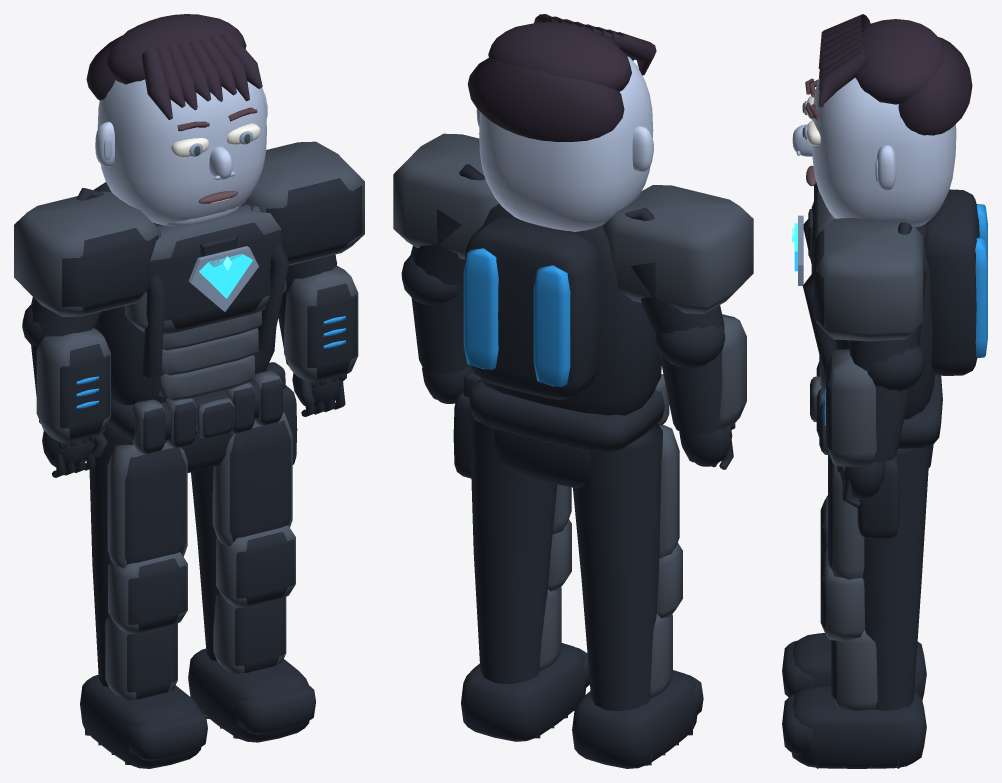
File: DAMIX_CHOMPJAK.glb
The picture shows the model from 3 angles, left to right: view 1: azimuth 30°, elevation 25°; view 2: azimuth 150°, elevation 25°; view 3: azimuth 270°, elevation 25°; orthographic projection. The views are drawn at different scales.
Visible parts, largest first — view 1: Face, Shoulder leftArm rim, Thigh leftLeg armour, Thigh rightLeg armour, Breastplate armour, Shoulder leftArm armour, Shoulder rightArm armour, Boot leftLeg, Boot rightLeg, Shoulder rightArm rim, Undersuit torso, Hair crown (+50 smaller); view 2: Trouser leg leftLeg, Trouser leg rightLeg, Face, Shoulder leftArm rim, Backpack, Undersuit torso, Long hair back, Shoulder rightArm rim, Boot leftLeg, Boot rightLeg, Belt, Hair crown (+19 smaller); view 3: Face, Shoulder rightArm rim, Trouser leg rightLeg, Backpack, Boot rightLeg, Hair crown, Forearm rightArm rim, Long hair back, Sleeve rightArm, Shin rightLeg rim, Thigh rightLeg rim, Knee rightLeg rim (+19 smaller).
Boxes of the visible parts, x1,y1,x2,y2 form: Face: (97, 79, 266, 225); Shoulder leftArm rim: (14, 191, 160, 317); Thigh leftLeg armour: (125, 447, 186, 564); Thigh rightLeg armour: (230, 420, 291, 541); Breastplate armour: (150, 222, 281, 329); Shoulder leftArm armour: (62, 228, 158, 313); Shoulder rightArm armour: (266, 178, 362, 264); Boot leftLeg: (80, 674, 201, 768); Boot rightLeg: (188, 648, 309, 742); Shoulder rightArm rim: (245, 141, 364, 265); Undersuit torso: (95, 201, 276, 405); Hair crown: (106, 14, 246, 84); Trouser leg leftLeg: (573, 423, 662, 711); Trouser leg rightLeg: (469, 406, 557, 684); Face: (479, 56, 653, 231); Shoulder leftArm rim: (602, 185, 753, 313); Backpack: (463, 216, 600, 399); Undersuit torso: (480, 203, 661, 415); Long hair back: (467, 57, 624, 141); Shoulder rightArm rim: (393, 133, 499, 259); Boot leftLeg: (572, 670, 697, 768); Boot rightLeg: (461, 643, 585, 741); Belt: (469, 379, 665, 452); Hair crown: (488, 22, 631, 91); Face: (812, 78, 956, 226); Shoulder rightArm rim: (816, 217, 922, 341); Trouser leg rightLeg: (862, 445, 929, 710); Backpack: (924, 189, 979, 375); Boot rightLeg: (791, 686, 926, 768); Hair crown: (855, 19, 944, 104); Forearm rightArm rim: (828, 349, 876, 467); Long hair back: (898, 37, 972, 135); Sleeve rightArm: (848, 271, 926, 462); Shin rightLeg rim: (833, 629, 877, 710); Thigh rightLeg rim: (832, 464, 864, 579); Knee rightLeg rim: (822, 548, 865, 641).
Bounding box in the file's own units: 0.9551 × 2.01 × 0.5356.
